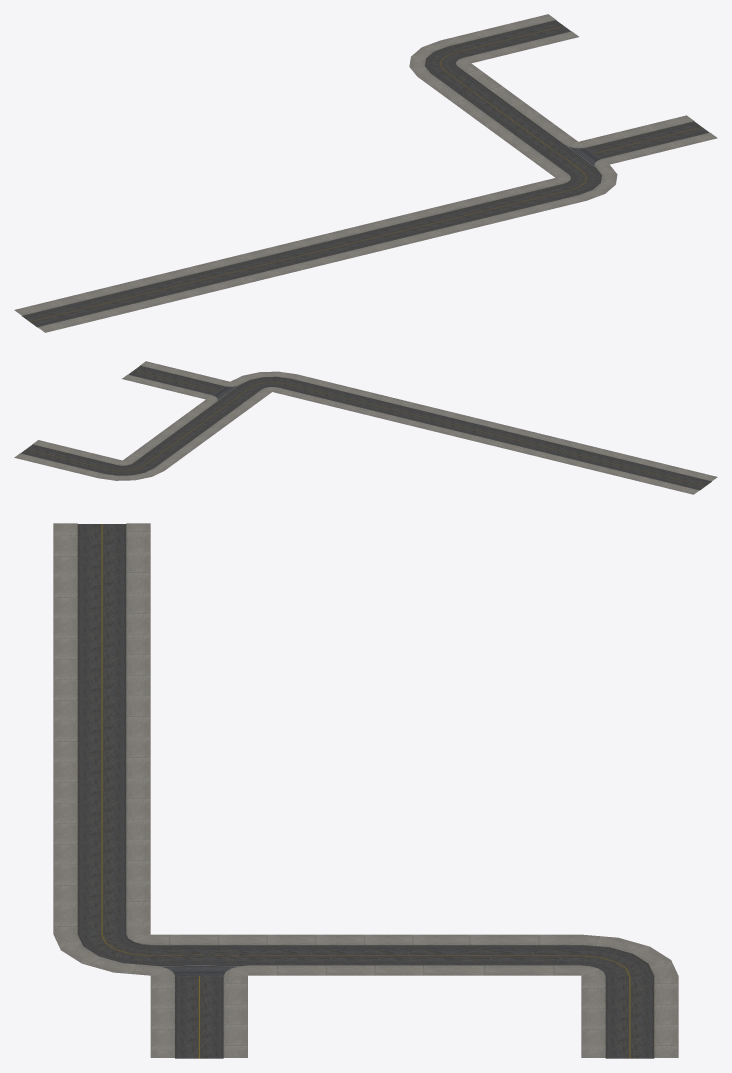
File: vegasnroad43.obj
3 renders of one model, top to bottom at view 1: azimuth 30°, elevation 25°; view 2: azimuth 150°, elevation 25°; view 3: azimuth 270°, elevation 25°, orthographic. The views are drawn at different scales.
Parts seen in each view (by area): view 1: vegasNroad43; view 2: vegasNroad43; view 3: vegasNroad43.
Part boxes in pixels (box(x1,y1,x2,y2)): vegasNroad43: box(14, 14, 717, 332); vegasNroad43: box(14, 361, 717, 494); vegasNroad43: box(53, 523, 678, 1058).
Bounding box in the file's own units: 260 × 0.2216 × 128.
Materials: 5 (5 with a texture image).
